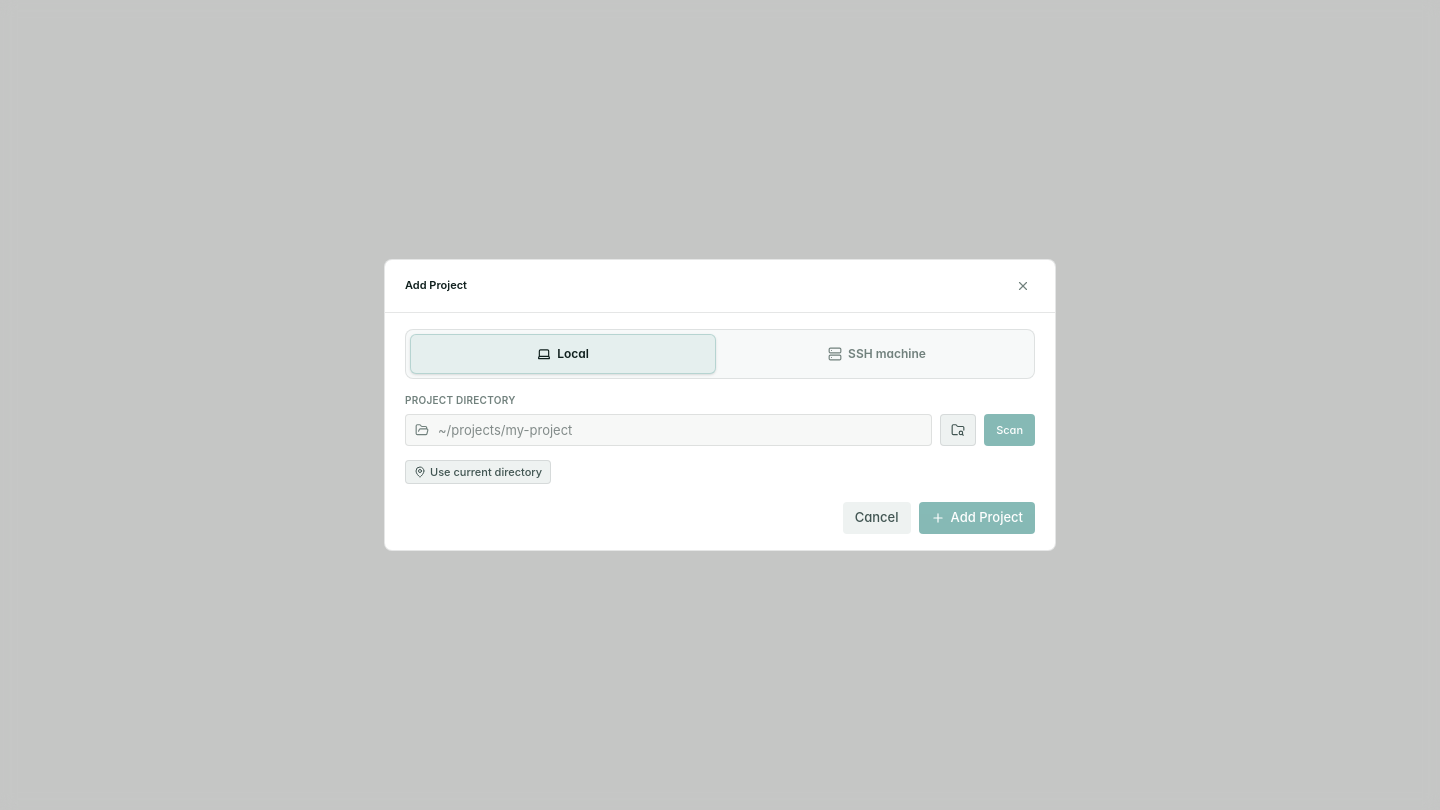
AddProjectModal › fills and scans the current server directory in one click
Click the button "Use current directory" at (478, 472), box [405, 460, 551, 484]
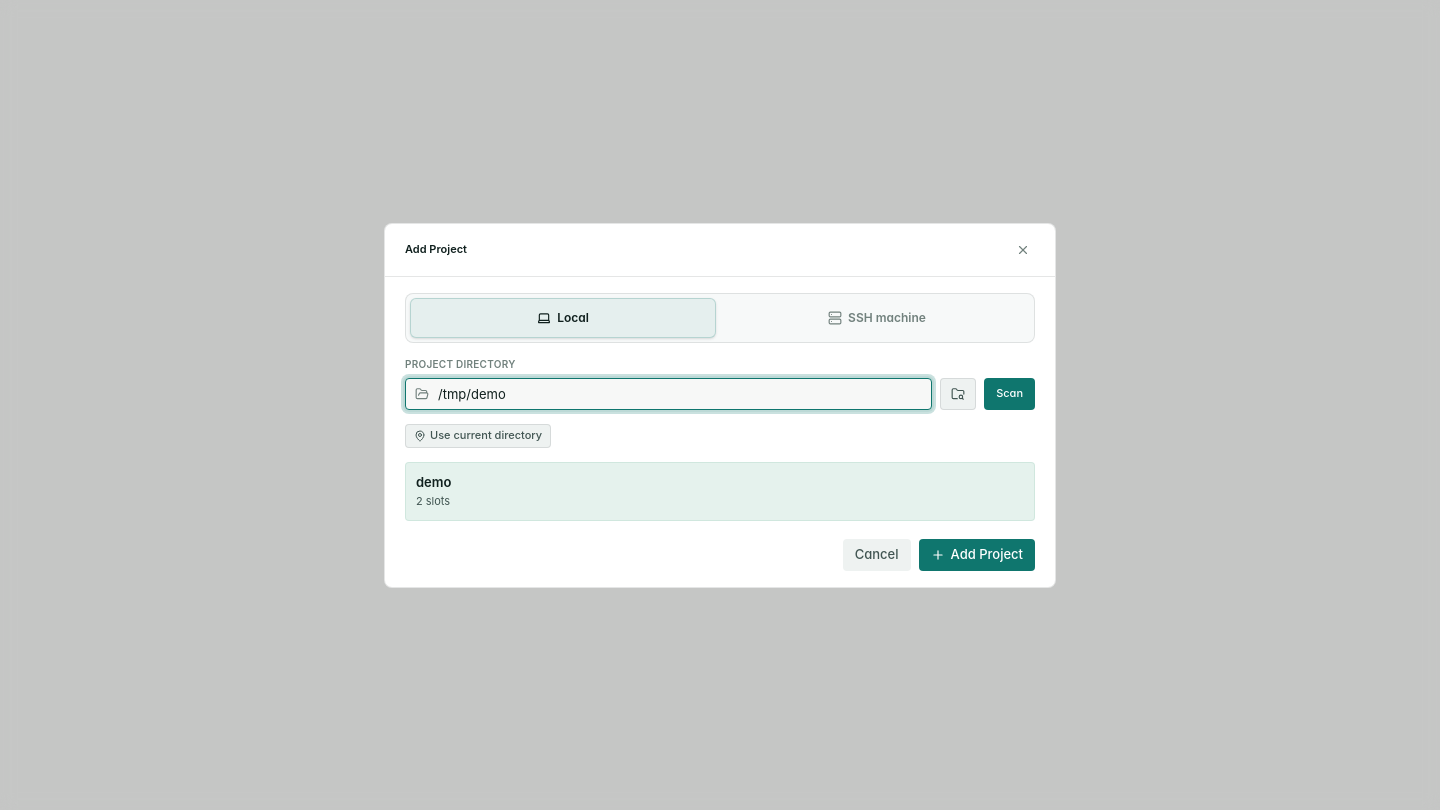
Expected: the field showing "/tmp/demo" is shown, [405, 378, 932, 410]
Expected: the text "demo" is shown, [416, 474, 451, 490]
